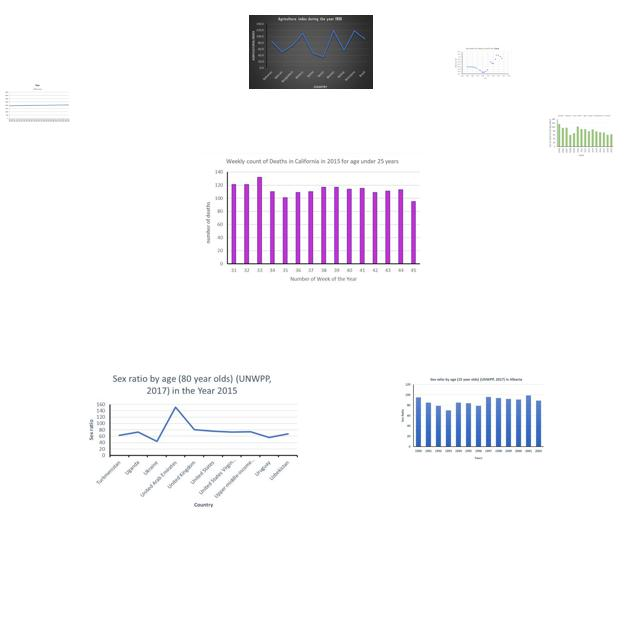Graph: (81, 369, 302, 511), (200, 153, 425, 289), (400, 374, 548, 462), (249, 15, 373, 89), (547, 114, 614, 157), (5, 83, 70, 122), (453, 46, 512, 80)
